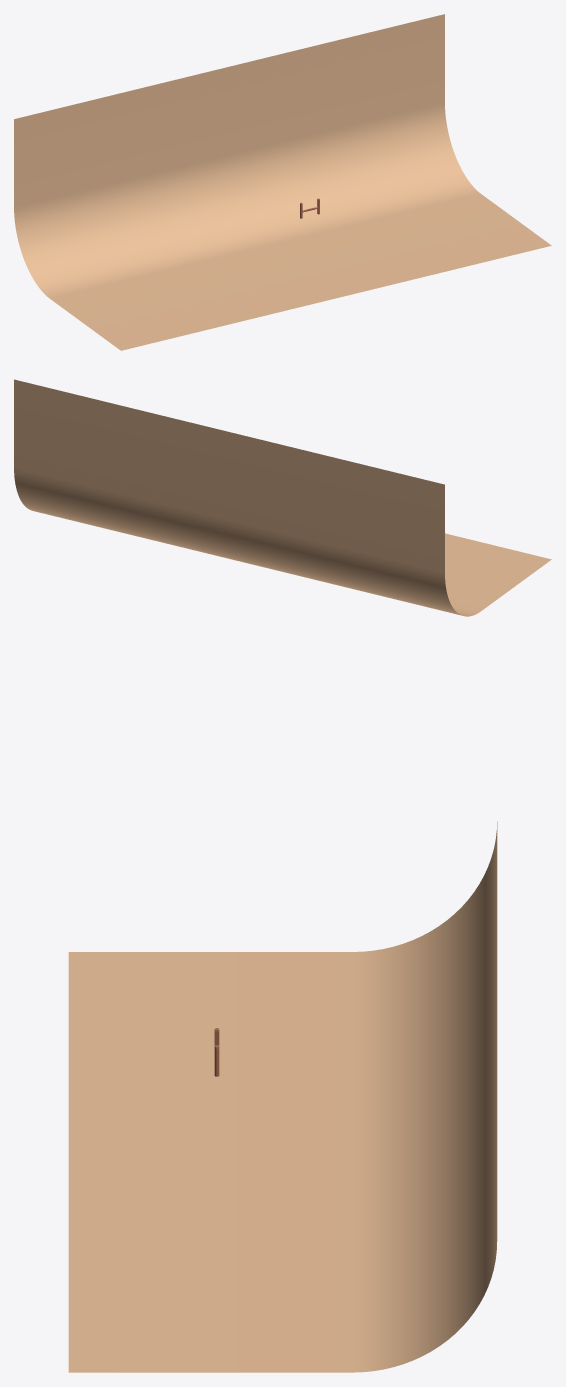
Rendered from Chopped Ladder 3.fbx.
The picture shows the model from 3 angles, top to bottom: view 1: azimuth 30°, elevation 25°; view 2: azimuth 150°, elevation 25°; view 3: azimuth 270°, elevation 25°; orthographic projection. The views are drawn at different scales.
Parts seen in each view (by area): view 1: Plane; view 2: Plane; view 3: Plane.
Part boxes in pixels (left/top/right/bottom): Plane: left=14, top=14, right=551, bottom=350; Plane: left=14, top=379, right=551, bottom=616; Plane: left=68, top=821, right=497, bottom=1372.
Size of the model in its own units: 2153 by 732 by 927.
